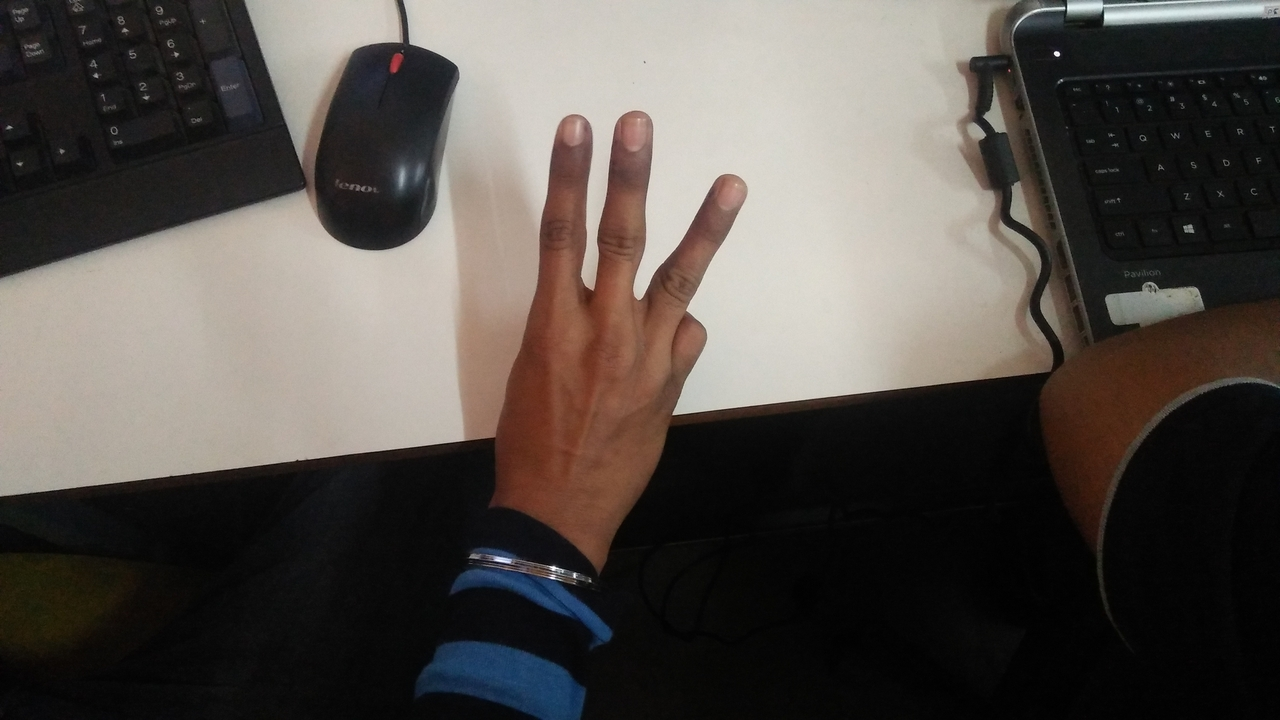fingertip: (692, 162, 756, 218), (602, 104, 664, 152), (542, 110, 604, 156)
